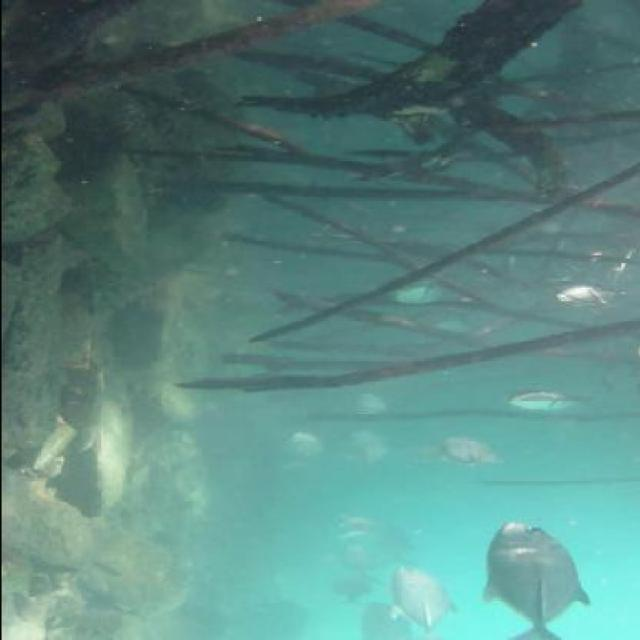Caranx_sexfasciatus_juvenile: (474, 517, 588, 640), (384, 563, 459, 640), (329, 426, 398, 474), (488, 382, 582, 416), (359, 592, 418, 640), (370, 518, 422, 570), (272, 428, 330, 474), (376, 277, 452, 309), (442, 428, 504, 466), (536, 282, 619, 310), (413, 312, 487, 342), (324, 538, 376, 579), (340, 390, 398, 424), (324, 514, 381, 541), (322, 572, 368, 602), (402, 442, 452, 468)
